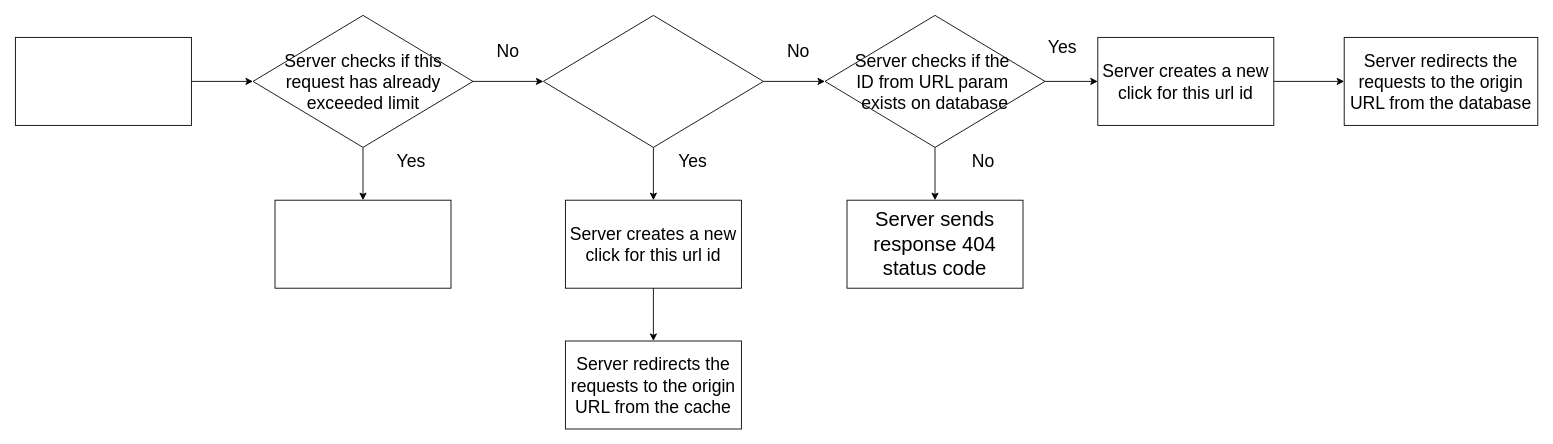
The diagram is 1553 pixels wide and 444 high, and some of its shapes have lost their labels. The shapes that lost their labels are listed below. From the top down, each one's centre as x and y in pixels, then its label:
At point (103, 81): "A GET request sent with the short ID as its URL param".
At point (653, 81): "Server checks if the ID from URL param exists on cache".
At point (362, 243): "Server sends response 429 status code".
